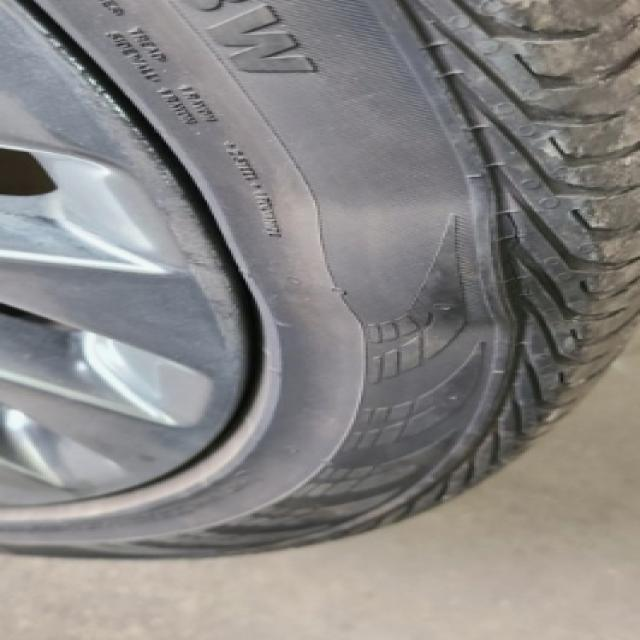Bulge: (284, 204, 548, 338)
